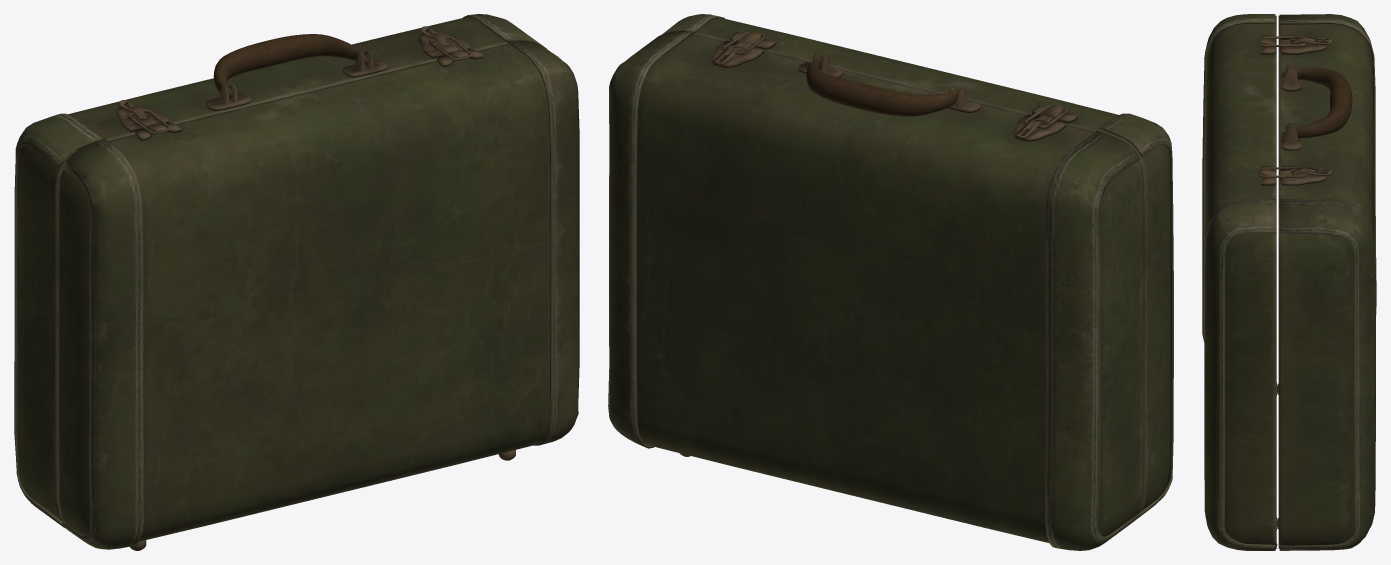
3 renders of one model, left to right at view 1: azimuth 30°, elevation 25°; view 2: azimuth 150°, elevation 25°; view 3: azimuth 270°, elevation 25°, orthographic. The views are drawn at different scales.
Parts seen in each view (by area): view 1: vintage_suitcase_01_top, vintage_suitcase_01_bottom, vintage_suitcase_01_handle; view 2: vintage_suitcase_01_bottom, vintage_suitcase_01_top, vintage_suitcase_01_handle; view 3: vintage_suitcase_01_bottom, vintage_suitcase_01_top, vintage_suitcase_01_handle, vintage_suitcase_01_clasp.
Boxes of the visible parts, bbox=[...] form: vintage_suitcase_01_top: bbox=[57, 40, 579, 550]; vintage_suitcase_01_bottom: bbox=[14, 14, 546, 528]; vintage_suitcase_01_handle: bbox=[213, 34, 367, 98]; vintage_suitcase_01_bottom: bbox=[608, 32, 1144, 550]; vintage_suitcase_01_top: bbox=[662, 14, 1173, 519]; vintage_suitcase_01_handle: bbox=[806, 57, 958, 116]; vintage_suitcase_01_bottom: bbox=[1277, 14, 1376, 550]; vintage_suitcase_01_top: bbox=[1202, 14, 1278, 550]; vintage_suitcase_01_handle: bbox=[1294, 68, 1352, 138]; vintage_suitcase_01_clasp: bbox=[1259, 35, 1305, 177].
Size of the model in its own units: 0.6938 by 0.5679 by 0.2392.
Materials: 1 (1 with a texture image).
